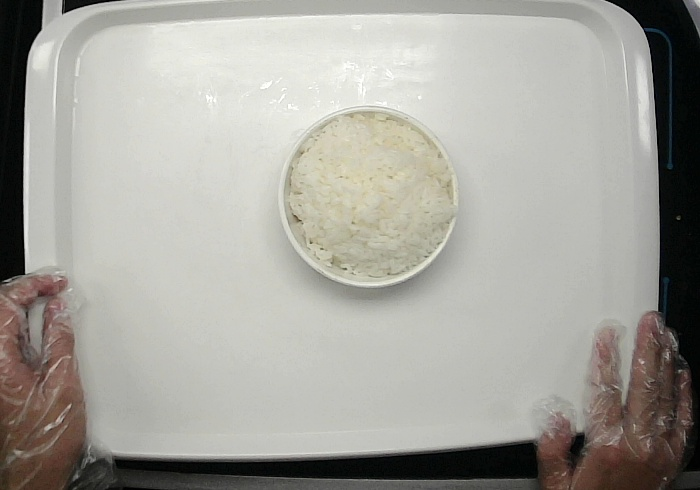HZYJPL-Fan_Wan: (277, 106, 460, 289)
